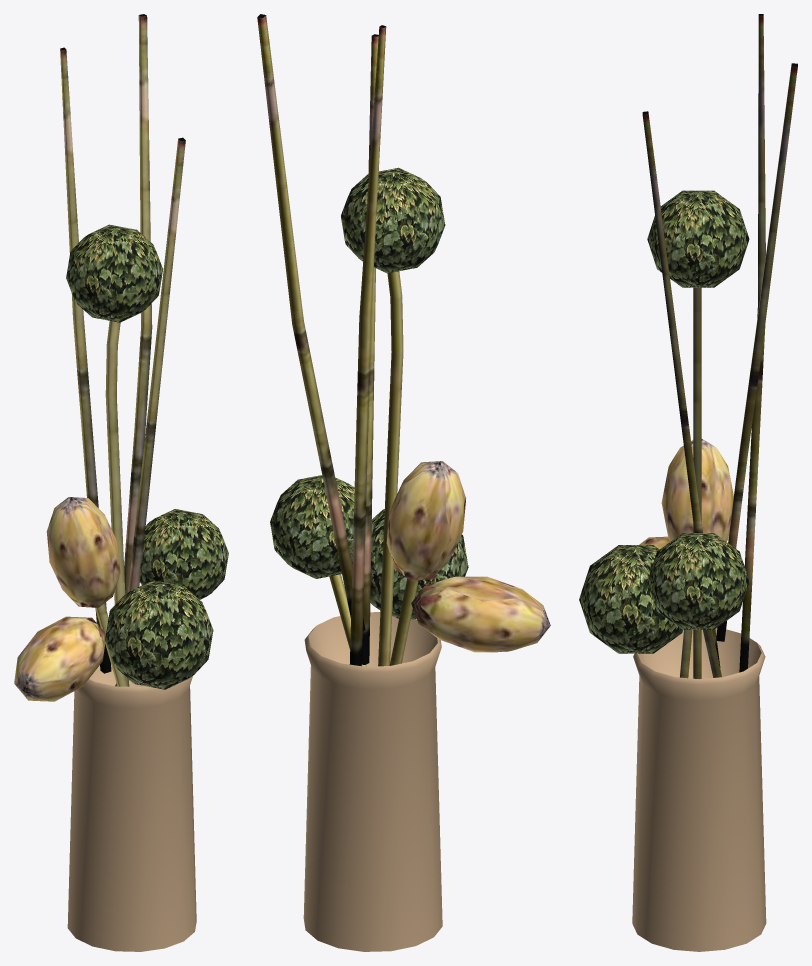
File: flower_decor.fbx
3 views of the same model, side by side, from view 1: azimuth 30°, elevation 25°; view 2: azimuth 150°, elevation 25°; view 3: azimuth 270°, elevation 25° (orthographic). The views are drawn at different scales.
Parts seen in each view (by area): view 1: decor_stuff, vase; view 2: decor_stuff, vase; view 3: decor_stuff, vase.
Boxes of the visible parts, box(x1,y1,x2,y2) form: decor_stuff: box(14, 14, 228, 701); vase: box(67, 664, 196, 951); decor_stuff: box(257, 14, 550, 666); vase: box(303, 612, 442, 951); decor_stuff: box(579, 14, 797, 679); vase: box(632, 628, 766, 951).
Bounding box in the file's own units: 12.87 × 47.14 × 10.52.
Materials: 2 (1 with a texture image).
